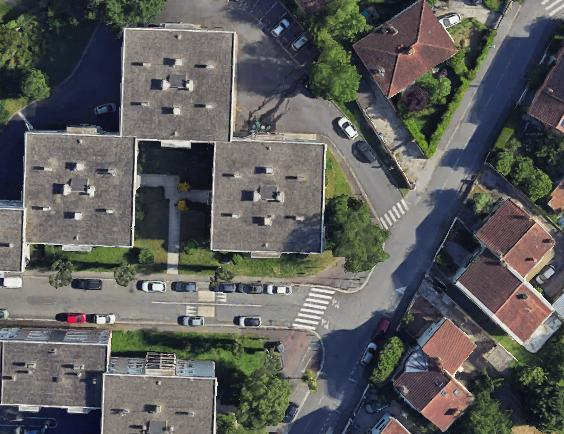immeuble: (120, 22, 234, 145), (21, 131, 135, 246), (212, 142, 324, 251), (102, 352, 217, 433), (0, 328, 110, 411), (0, 208, 22, 271)
maison: (381, 312, 501, 433), (351, 0, 457, 98), (453, 246, 555, 345), (474, 197, 557, 279), (530, 42, 563, 131), (365, 413, 410, 433)
